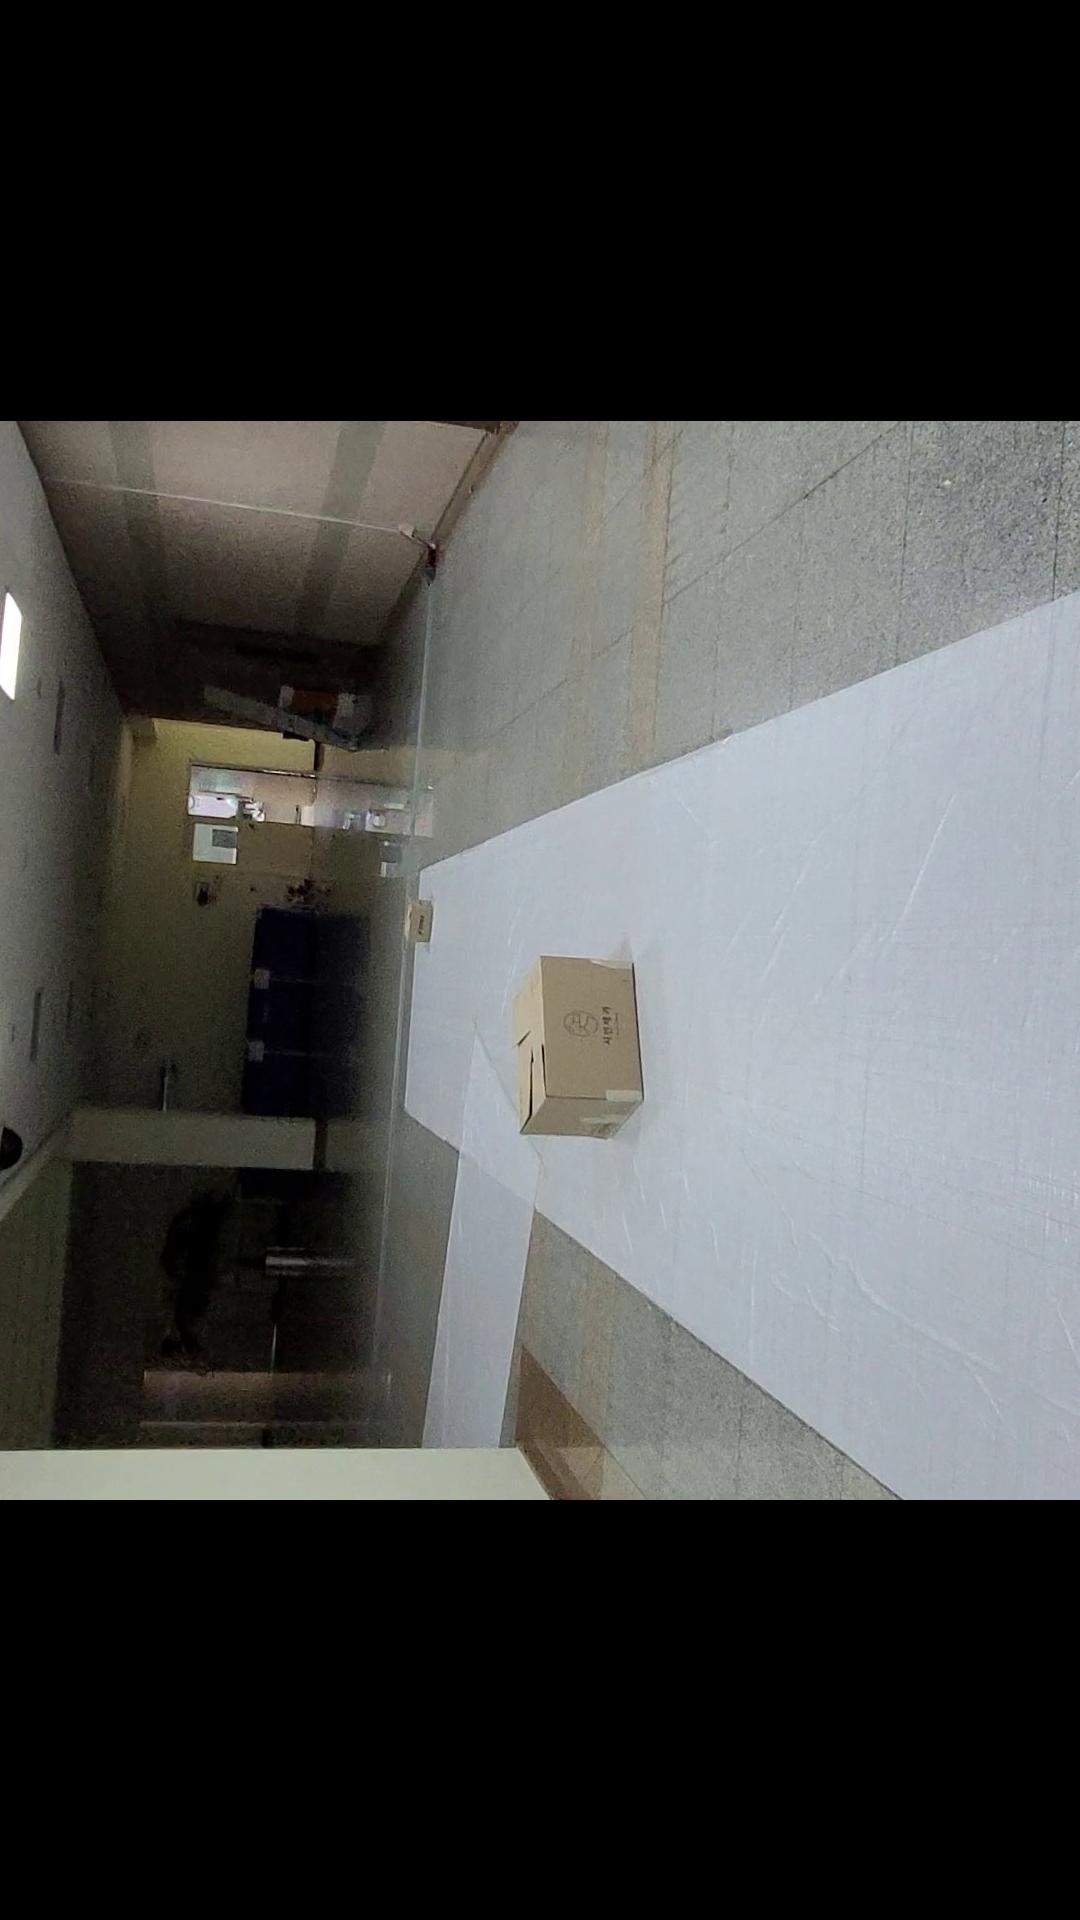Box: (480, 910, 680, 1184)
